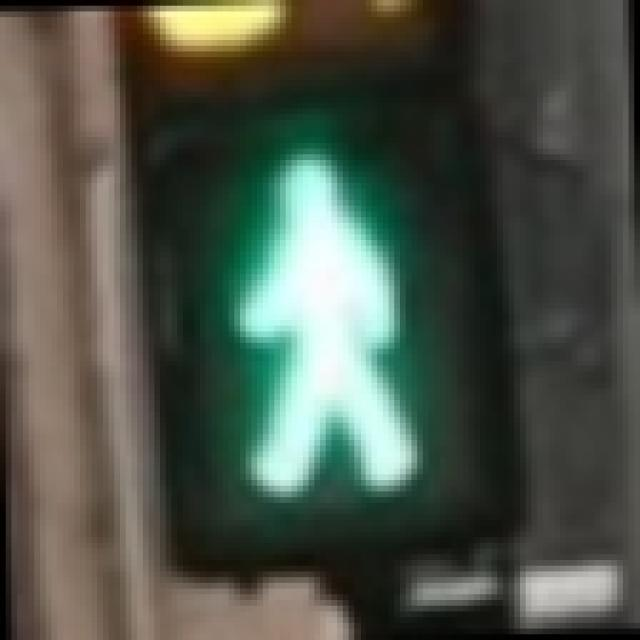geen-crossing: (132, 91, 497, 538)
